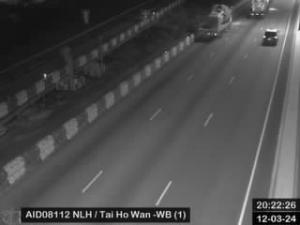truck: (196, 4, 232, 40), (248, 1, 270, 18)
vehicle: (262, 30, 278, 46)
